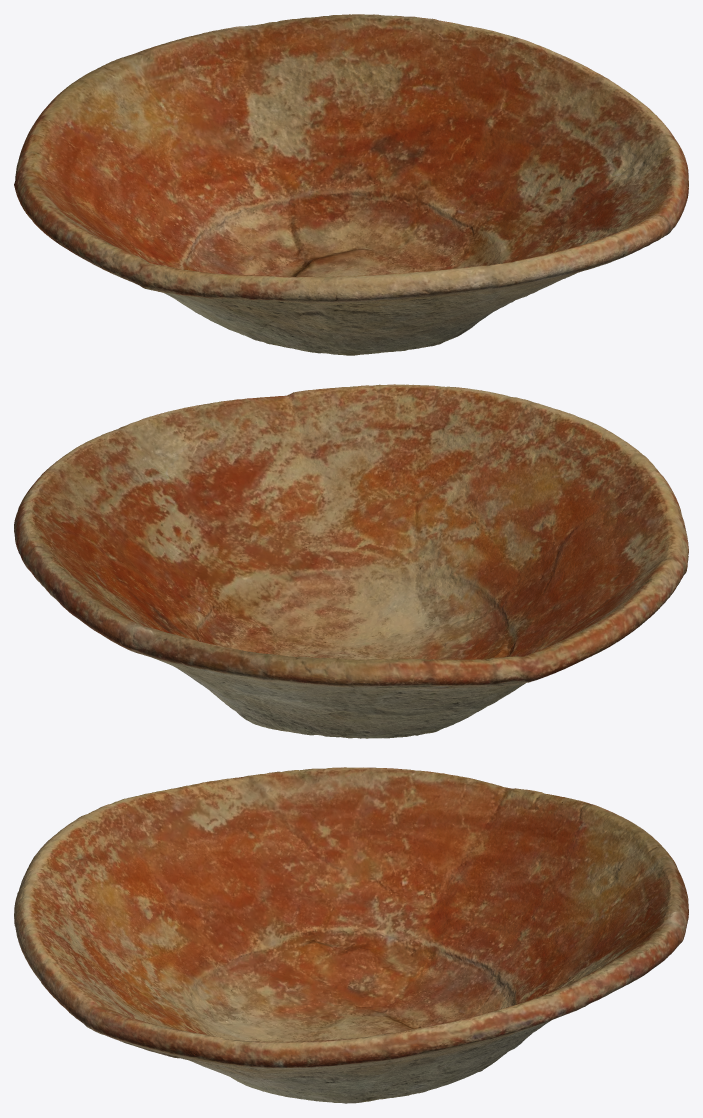
3 renders of one model, top to bottom at view 1: azimuth 30°, elevation 25°; view 2: azimuth 150°, elevation 25°; view 3: azimuth 270°, elevation 25°, orthographic. The views are drawn at different scales.
Visible parts, largest first — view 1: Mesh_0.007; view 2: Mesh_0.007; view 3: Mesh_0.007.
Boxes of the visible parts, x1,y1,x2,y2 form: Mesh_0.007: (14,14,688,355); Mesh_0.007: (14,384,688,738); Mesh_0.007: (14,767,688,1103).
Size of the model in its own units: 0.2387 by 0.0644 by 0.2373.
Materials: 1 (1 with a texture image).
